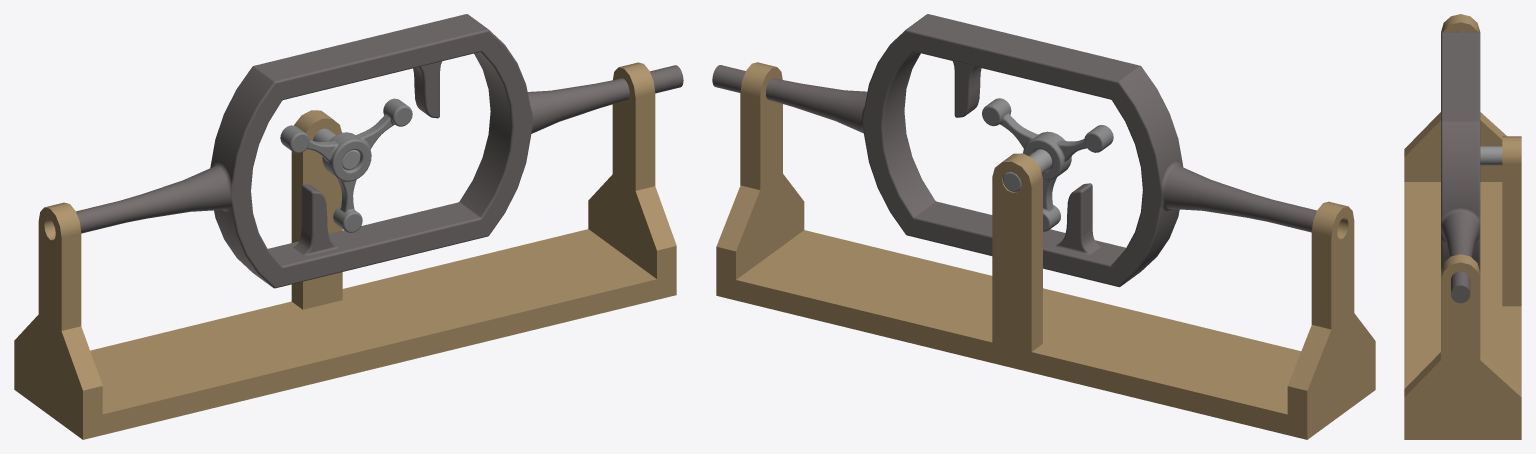
File: Wiper.24.dae
The picture shows the model from 3 angles, left to right: view 1: azimuth 30°, elevation 25°; view 2: azimuth 150°, elevation 25°; view 3: azimuth 270°, elevation 25°; orthographic projection. The views are drawn at different scales.
Visible parts, largest first — view 1: Actor3, Actor2, Actor0; view 2: Actor3, Actor2, Actor0, Actor1; view 3: Actor3, Actor2, Actor1.
Part boxes in pixels (x1,y1,x2,y2): Actor3: (14,62,676,439); Actor2: (76,14,683,288); Actor0: (280,98,412,232); Actor3: (716,62,1375,439); Actor2: (712,14,1316,287); Actor0: (982,98,1113,231); Actor1: (1003,149,1052,192); Actor3: (1404,14,1521,439); Actor2: (1441,31,1480,303); Actor1: (1480,146,1502,165).
Bounding box in the file's own units: 1.59 × 0.7 × 0.3.
